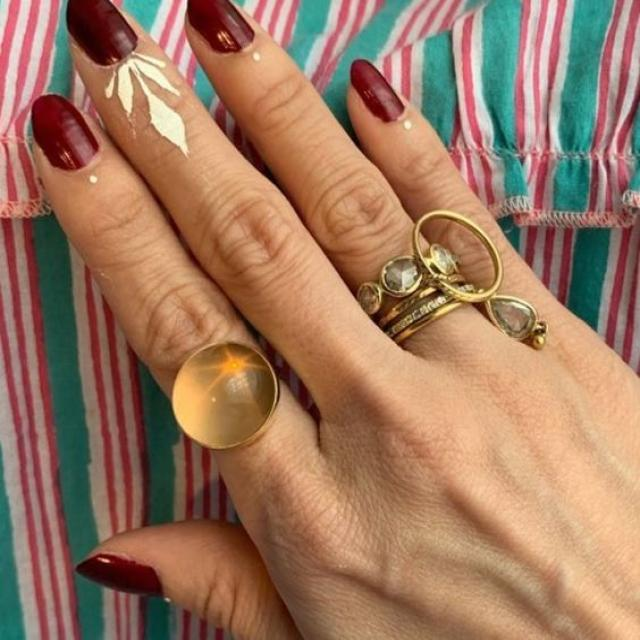Fingernail: (31, 95, 98, 171), (66, 0, 136, 66), (187, 0, 253, 53), (77, 556, 161, 597), (351, 60, 403, 121)
